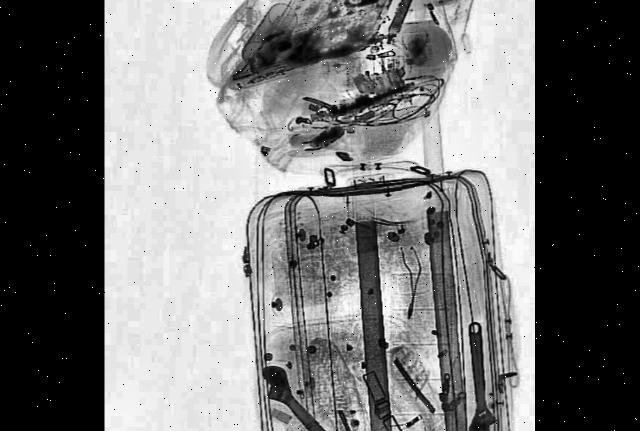Wrench: (255, 350, 351, 431), (459, 318, 498, 431)
